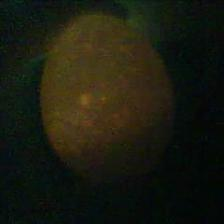fertile: (41, 11, 176, 194)
